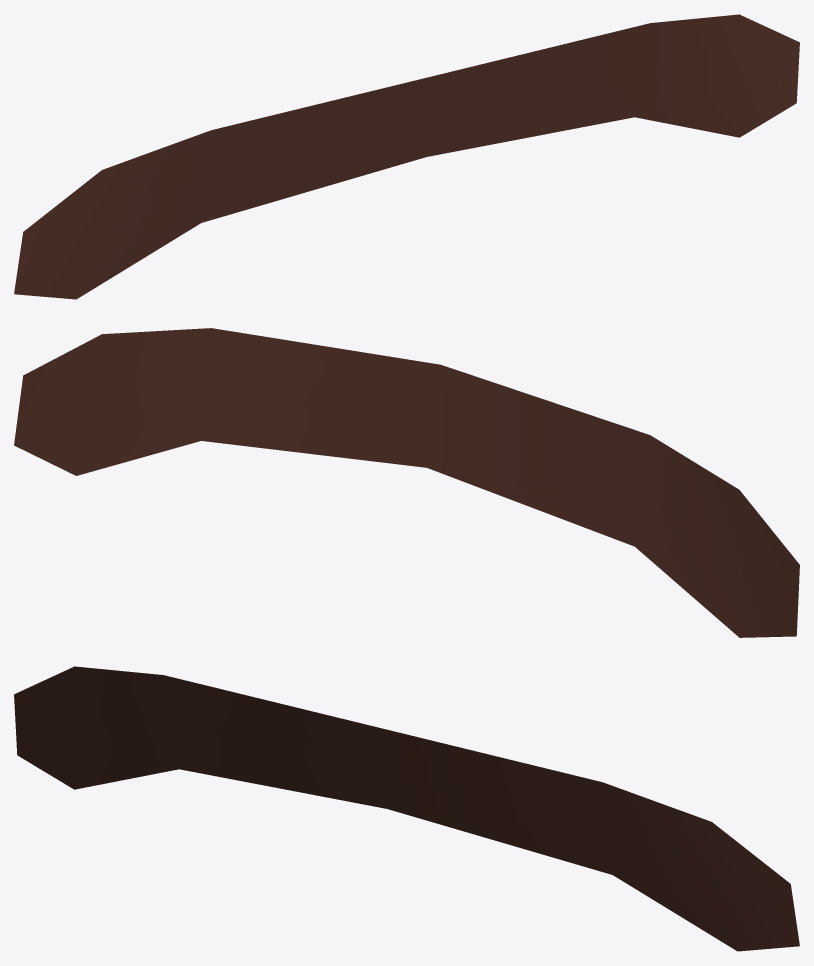
File: Mouth_Black_5.fbx
3 renders of one model, top to bottom at view 1: azimuth 30°, elevation 25°; view 2: azimuth 150°, elevation 25°; view 3: azimuth 330°, elevation 25°, orthographic.
Visible parts, largest first — view 1: Mouth_Black_5; view 2: Mouth_Black_5; view 3: Mouth_Black_5.
Part boxes in pixels (x1,y1,x2,y2): Mouth_Black_5: (14,14,799,299); Mouth_Black_5: (14,328,799,637); Mouth_Black_5: (14,666,799,951).
Bounding box in the file's own units: 8.32 × 1.71 × 0.6506.
